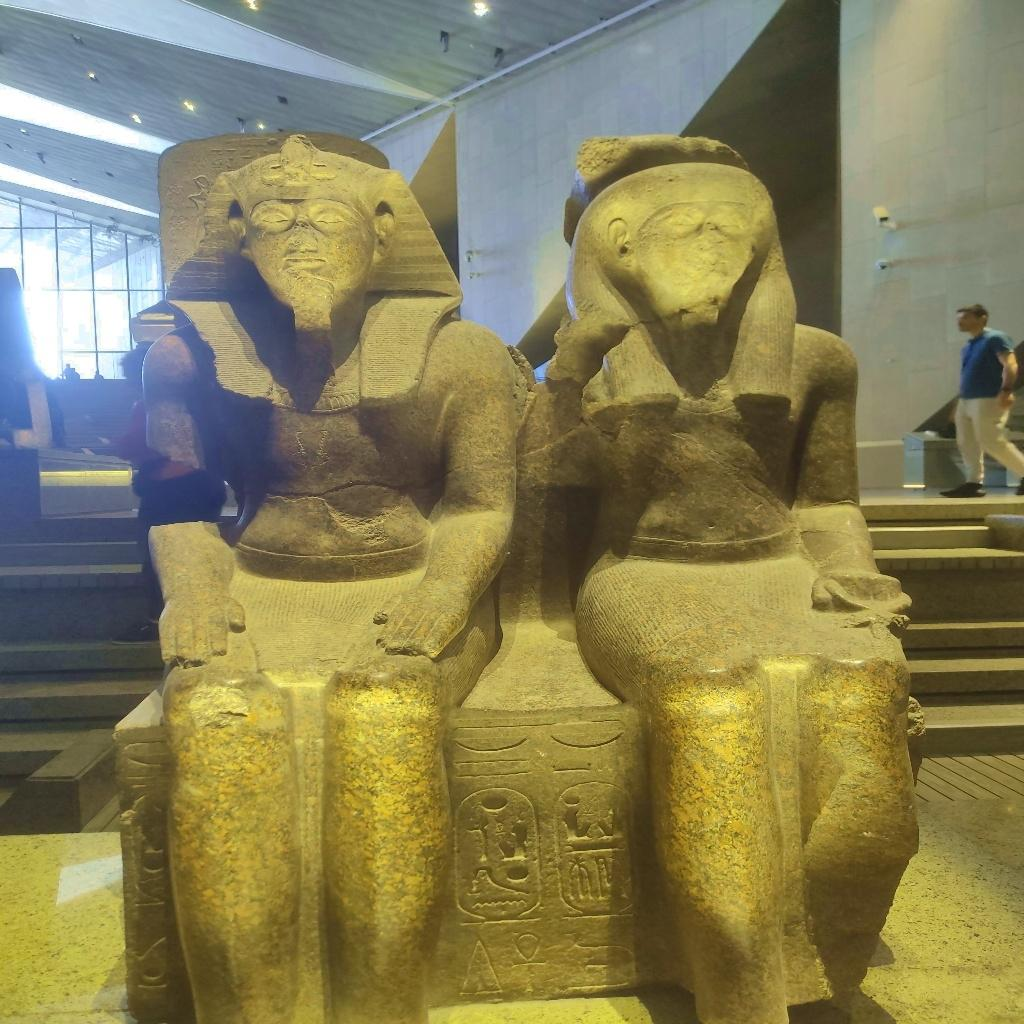Seated Statue of Ramesses II and God Ptah: (144, 121, 954, 1017)
